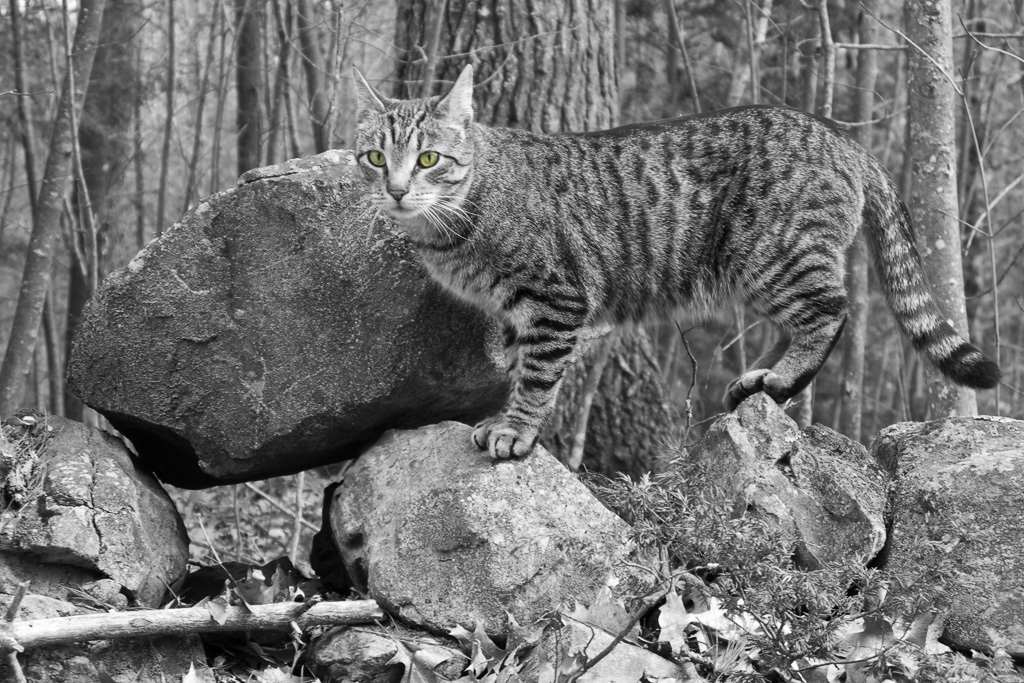Tree: (0, 0, 1024, 475)
